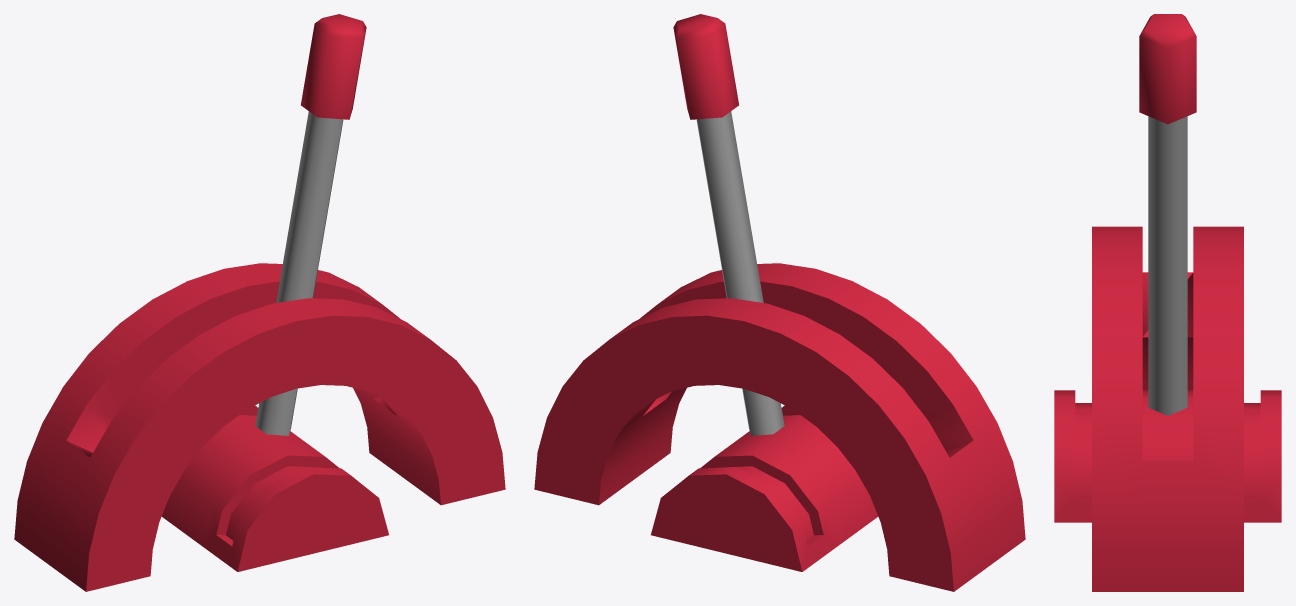
Rendered from lever.dae.
3 renders of one model, left to right at view 1: azimuth 30°, elevation 25°; view 2: azimuth 150°, elevation 25°; view 3: azimuth 270°, elevation 25°, orthographic. The views are drawn at different scales.
Parts seen in each view (by area): view 1: Body, Handle; view 2: Body, Handle; view 3: Body, Handle.
Part boxes in pixels (bbox=[...]): Body: bbox=[14, 263, 505, 591]; Handle: bbox=[255, 14, 366, 435]; Body: bbox=[534, 263, 1025, 591]; Handle: bbox=[673, 14, 784, 435]; Body: bbox=[1054, 226, 1281, 591]; Handle: bbox=[1139, 14, 1196, 415].
Size of the model in its own units: 0.744 by 0.3284 by 0.8047.
